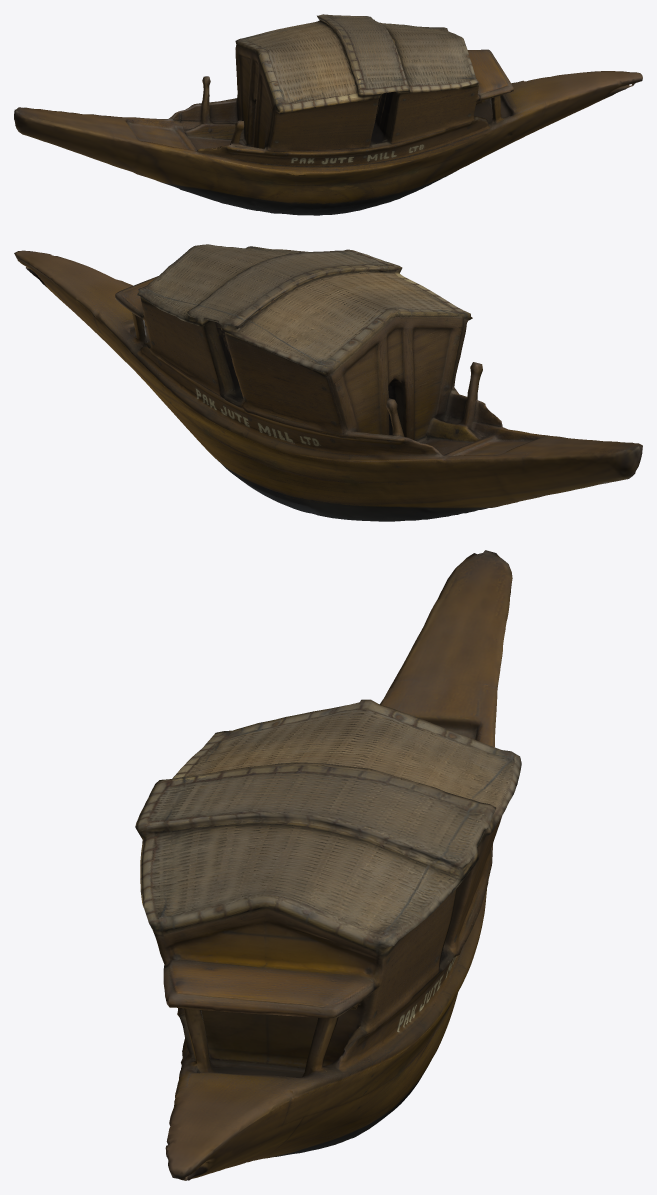
File: boat.glb
3 renders of one model, top to bottom at view 1: azimuth 30°, elevation 25°; view 2: azimuth 150°, elevation 25°; view 3: azimuth 270°, elevation 25°, orthographic. The views are drawn at different scales.
Visible parts, largest first — view 1: GoodGrid_VerdantWorks_Sketchfab_0; view 2: GoodGrid_VerdantWorks_Sketchfab_0; view 3: GoodGrid_VerdantWorks_Sketchfab_0.
Boxes of the visible parts, x1,y1,x2,y2 form: GoodGrid_VerdantWorks_Sketchfab_0: (14, 14, 642, 215); GoodGrid_VerdantWorks_Sketchfab_0: (14, 244, 642, 521); GoodGrid_VerdantWorks_Sketchfab_0: (135, 550, 521, 1180).
Bounding box in the file's own units: 0.7287 × 0.2137 × 0.2215.
Materials: 1 (1 with a texture image).
